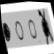correct: (1, 20, 12, 41)
not correct: (36, 6, 54, 46)
